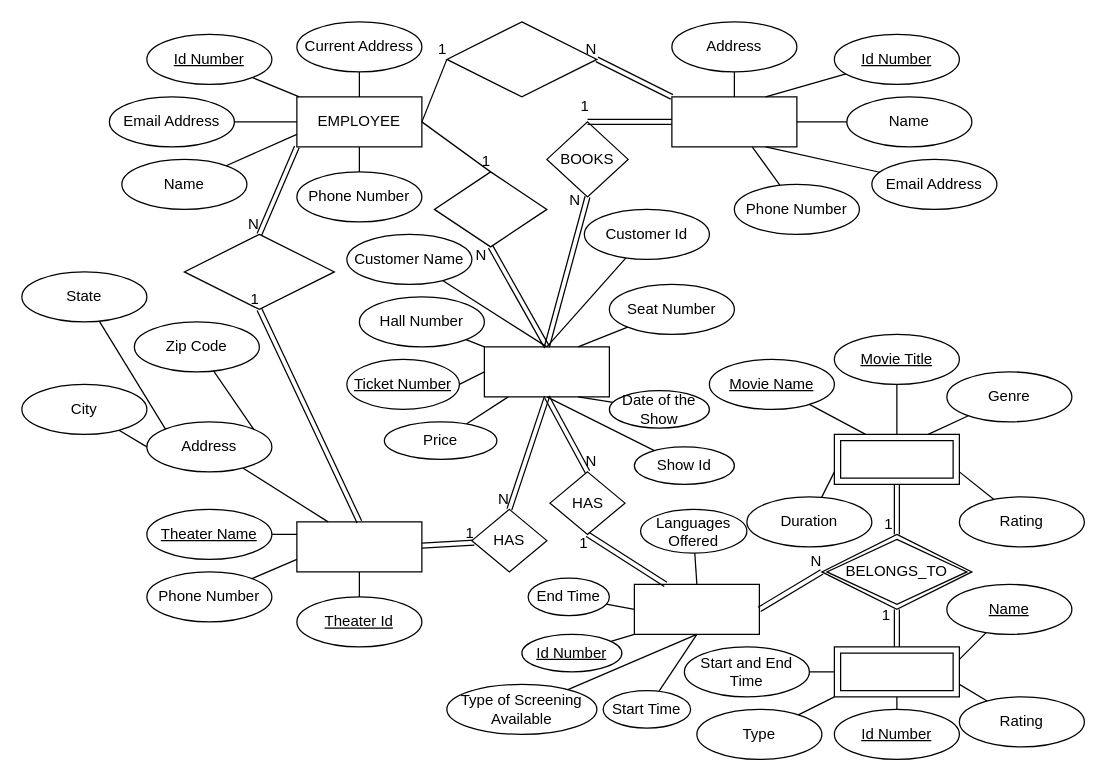
Image size: 1106x781. Some labels were removed from this diagram. The centre of each missing label's shape, as x and y in pixels:
"ACCESSES / CHECKS" belongs at point (521, 59).
"CUSTOMER" belongs at point (734, 121).
"Movie" belongs at point (896, 458).
"SELLS / CHECKS" belongs at point (490, 209).
"SHOW" belongs at point (696, 608).
"Special Experience" belongs at point (896, 671).
"THEATER" belongs at point (359, 546).
"TICKET" belongs at point (546, 371).
"WORKS_FOR" belongs at point (258, 271).
